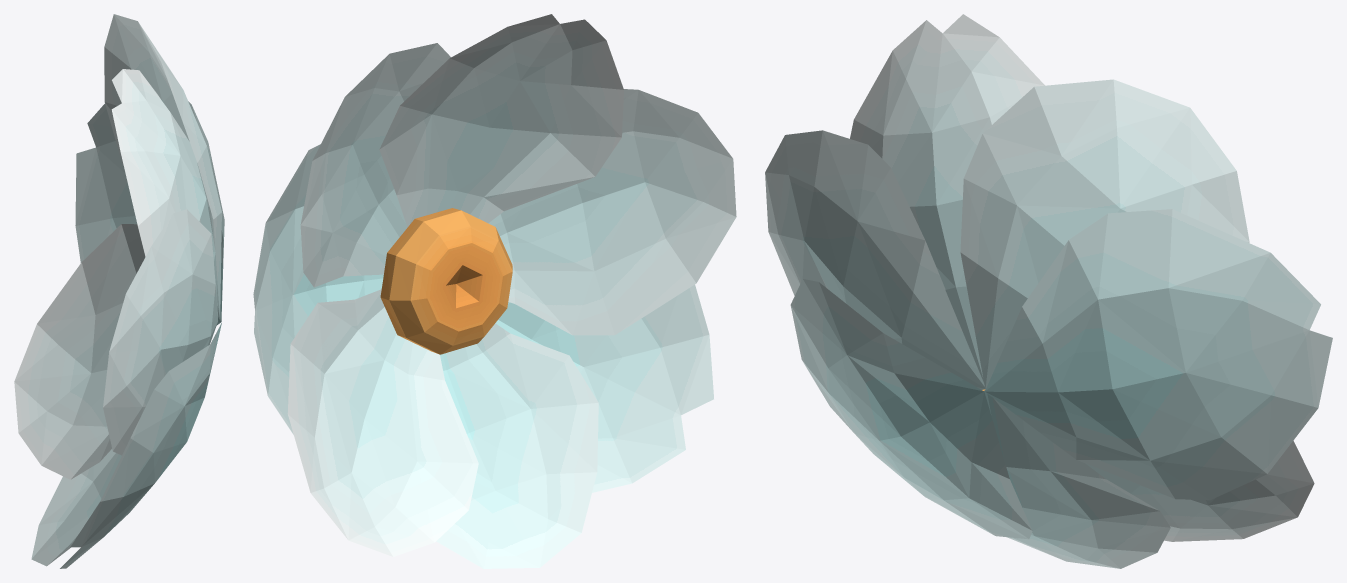
File: CharSkyKid_Horn_FlowerPoppy_01.glb
3 renders of one model, left to right at view 1: azimuth 30°, elevation 25°; view 2: azimuth 150°, elevation 25°; view 3: azimuth 270°, elevation 25°, orthographic. The views are drawn at different scales.
Parts seen in each view (by area): view 1: CharSkyKid_Horn_FlowerPoppy_01; view 2: CharSkyKid_Horn_FlowerPoppy_01; view 3: CharSkyKid_Horn_FlowerPoppy_01.
Part boxes in pixels (x1,y1,x2,y2): CharSkyKid_Horn_FlowerPoppy_01: (14, 14, 224, 568); CharSkyKid_Horn_FlowerPoppy_01: (253, 14, 736, 568); CharSkyKid_Horn_FlowerPoppy_01: (765, 14, 1332, 568).
Bounding box in the file's own units: 0.5936 × 1.09 × 0.9901.
Materials: 1 (1 with a texture image).
